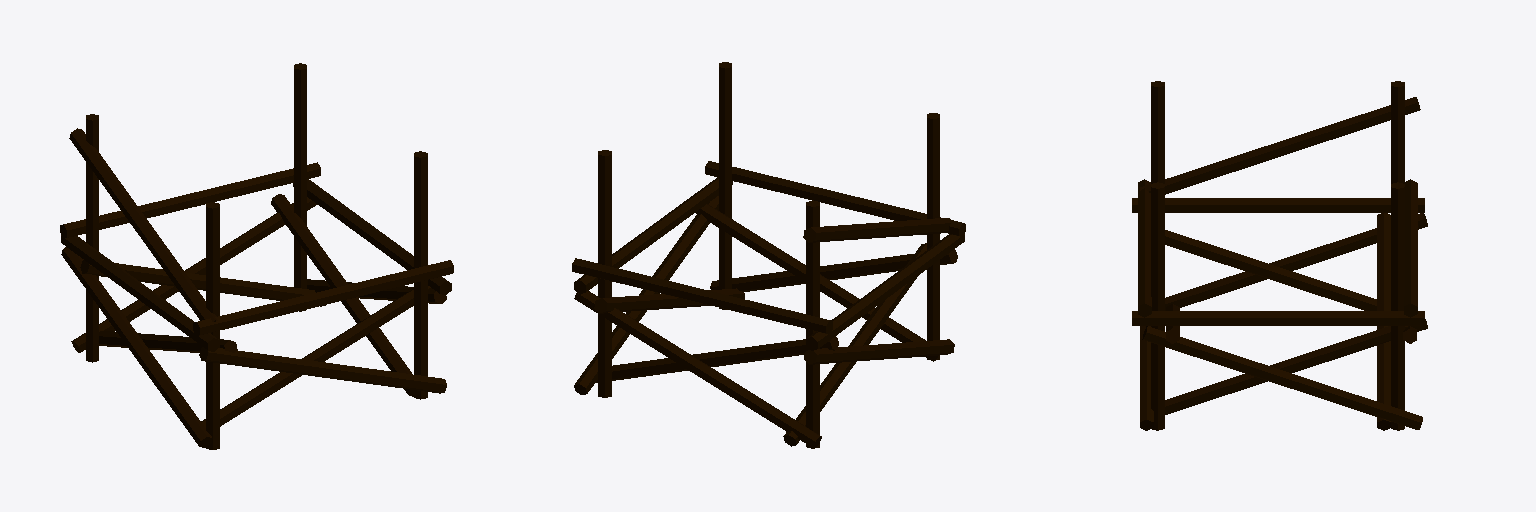
Rendered from BuildingSite1.obj.
The picture shows the model from 3 angles: view 1: azimuth 30°, elevation 25°; view 2: azimuth 150°, elevation 25°; view 3: azimuth 270°, elevation 25°; orthographic projection.
Parts seen in each view (by area): view 1: Cylinder084, Cylinder087, Cylinder091, Cylinder092, Cylinder081, Cylinder089, Cylinder086, Cylinder077, Cylinder078, Cylinder083, Cylinder076, Cylinder079 (+5 smaller); view 2: Cylinder085, Cylinder081, Cylinder084, Cylinder086, Cylinder076, Cylinder079, Cylinder077, Cylinder083, Cylinder087, Cylinder078, Cylinder075, Cylinder088 (+5 smaller); view 3: Cylinder082, Cylinder088, Cylinder092, Cylinder083, Cylinder090, Cylinder089, Cylinder076, Cylinder091, Cylinder077, Cylinder079, Cylinder081, Cylinder084 (+3 smaller).
Part boxes in pixels (bbox=[...]): Cylinder084: bbox=[193, 260, 453, 335]; Cylinder087: bbox=[199, 347, 446, 393]; Cylinder091: bbox=[61, 247, 212, 447]; Cylinder092: bbox=[69, 128, 217, 321]; Cylinder081: bbox=[60, 162, 320, 238]; Cylinder089: bbox=[271, 194, 420, 396]; Cylinder086: bbox=[201, 286, 430, 427]; Cylinder077: bbox=[414, 151, 427, 399]; Cylinder078: bbox=[206, 202, 219, 449]; Cylinder083: bbox=[61, 235, 219, 351]; Cylinder076: bbox=[294, 63, 306, 311]; Cylinder079: bbox=[80, 260, 325, 306]; Cylinder085: bbox=[574, 291, 821, 447]; Cylinder081: bbox=[572, 258, 832, 334]; Cylinder084: bbox=[705, 161, 965, 236]; Cylinder086: bbox=[695, 204, 937, 361]; Cylinder076: bbox=[598, 150, 611, 397]; Cylinder079: bbox=[596, 336, 838, 382]; Cylinder077: bbox=[719, 62, 731, 309]; Cylinder083: bbox=[806, 234, 964, 350]; Cylinder087: bbox=[710, 249, 957, 291]; Cylinder078: bbox=[927, 113, 939, 360]; Cylinder075: bbox=[806, 200, 819, 448]; Cylinder088: bbox=[574, 196, 718, 394]; Cylinder082: bbox=[1132, 311, 1424, 325]; Cylinder088: bbox=[1142, 326, 1422, 429]; Cylinder092: bbox=[1140, 97, 1420, 194]; Cylinder083: bbox=[1132, 198, 1424, 212]; Cylinder090: bbox=[1165, 230, 1376, 310]; Cylinder089: bbox=[1165, 319, 1427, 414]; Cylinder076: bbox=[1391, 182, 1404, 430]; Cylinder091: bbox=[1165, 213, 1427, 310]; Cylinder077: bbox=[1151, 182, 1164, 430]; Cylinder079: bbox=[1377, 213, 1390, 430]; Cylinder081: bbox=[1404, 179, 1417, 317]; Cylinder084: bbox=[1138, 179, 1151, 317].
Size of the model in its own units: 11 by 10 by 11.11.